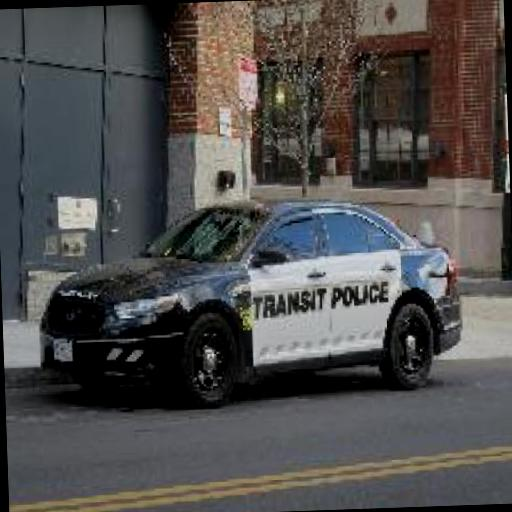Ambulance: (32, 194, 470, 409)
